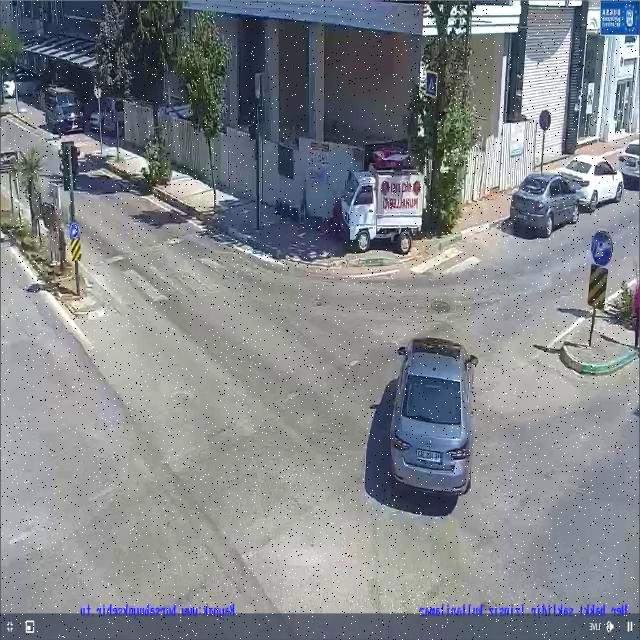car: (388, 337, 478, 497), (339, 154, 426, 258), (508, 171, 581, 241), (560, 150, 624, 210)
